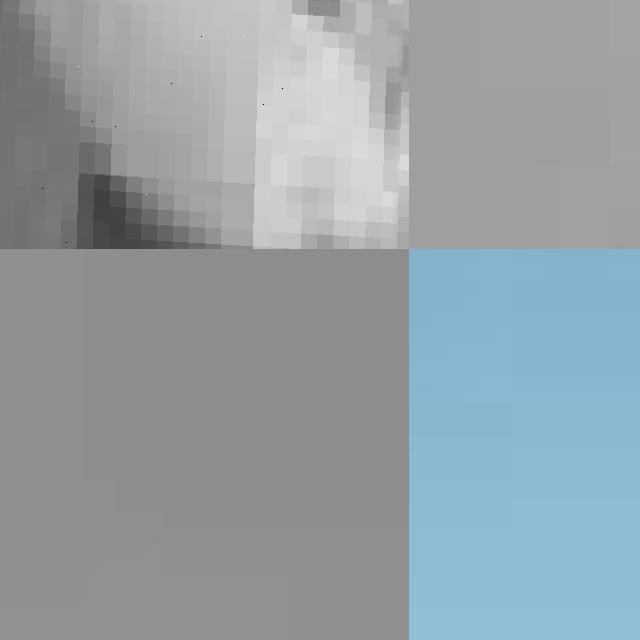street light: (0, 0, 409, 249)
